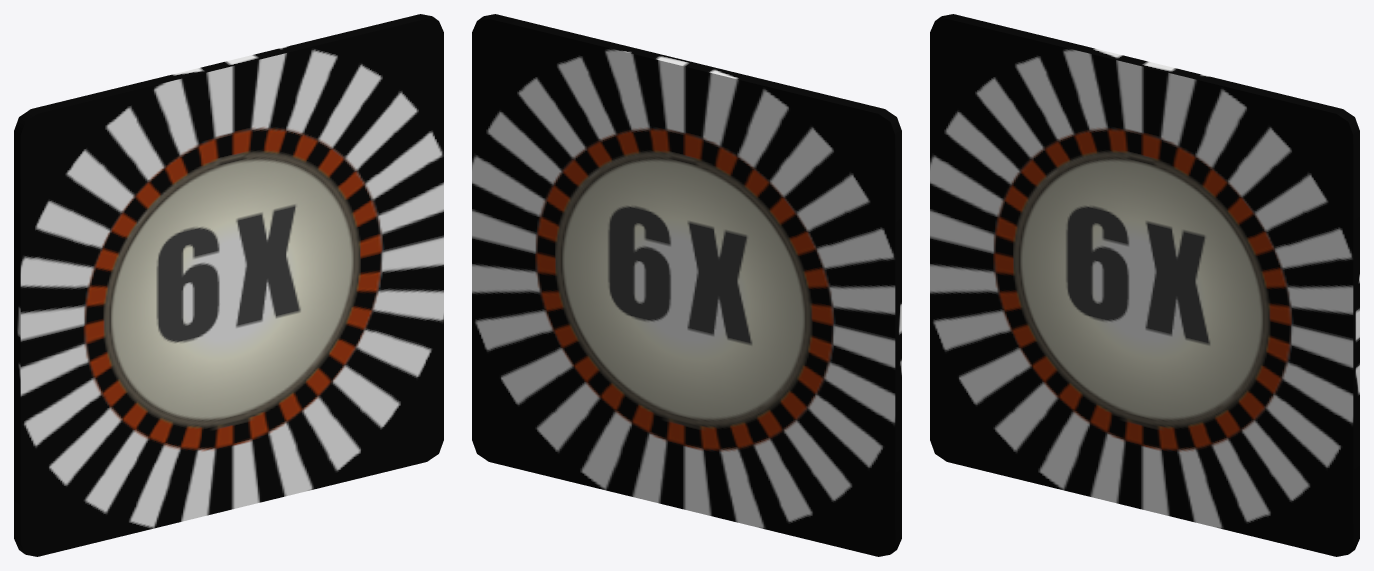
Rendered from SM_SpinnerTile.FBX.
3 views of the same model, side by side, from view 1: azimuth 30°, elevation 25°; view 2: azimuth 150°, elevation 25°; view 3: azimuth 330°, elevation 25° (orthographic).
Visible parts, largest first — view 1: SM_SpinnerTile; view 2: SM_SpinnerTile; view 3: SM_SpinnerTile.
Boxes of the visible parts, x1,y1,x2,y2 form: SM_SpinnerTile: (14, 14, 443, 556); SM_SpinnerTile: (472, 14, 901, 556); SM_SpinnerTile: (930, 14, 1359, 556).
Bounding box in the file's own units: 150 × 4 × 150.
